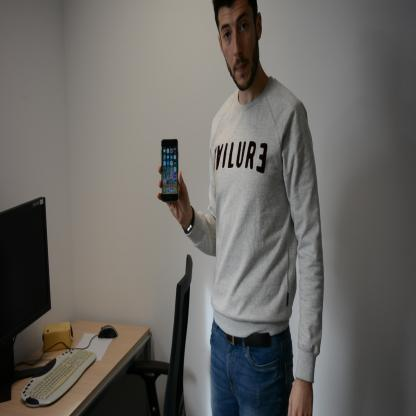smartphone: (160, 137, 179, 202)
